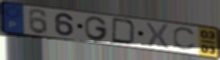6: (28, 8, 50, 36), (54, 12, 76, 38)
C: (172, 27, 198, 52)
D: (111, 17, 138, 46)
G: (83, 16, 109, 42)
X: (146, 21, 171, 51)
